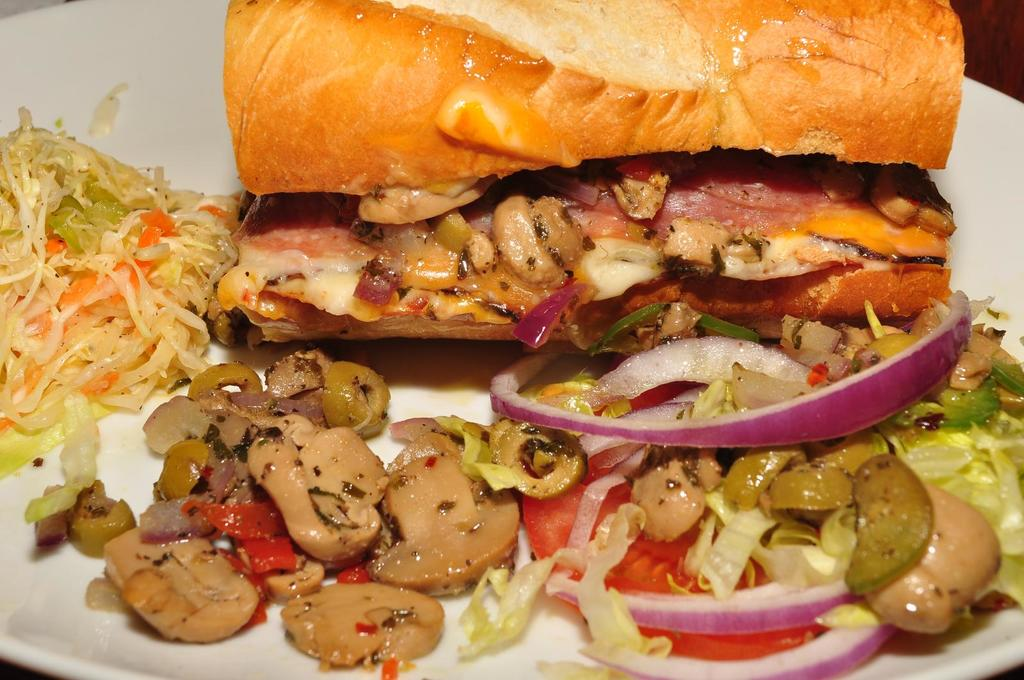Hamburger: (209, 0, 968, 340)
